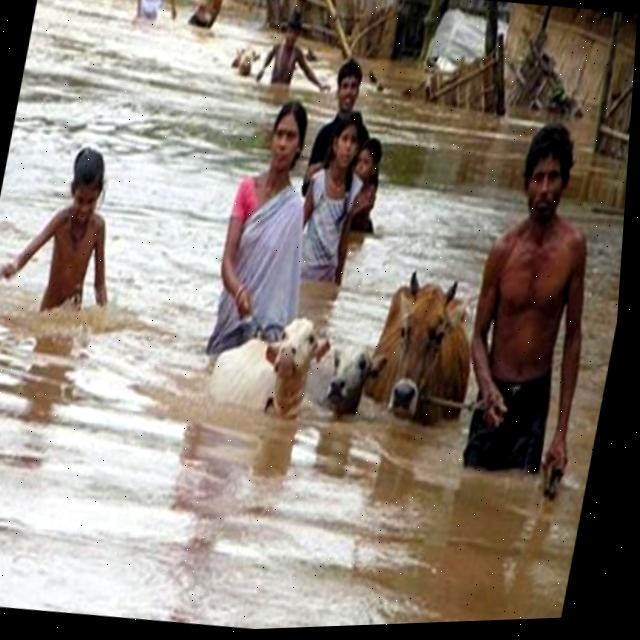civilian: (427, 93, 632, 518), (189, 77, 337, 354), (0, 118, 164, 348), (272, 95, 384, 304), (294, 38, 399, 213), (250, 6, 335, 100), (339, 128, 402, 246), (117, 0, 190, 39), (182, 0, 242, 42)
cow: (348, 252, 498, 465), (189, 305, 351, 445), (292, 309, 389, 440), (222, 29, 265, 84)
